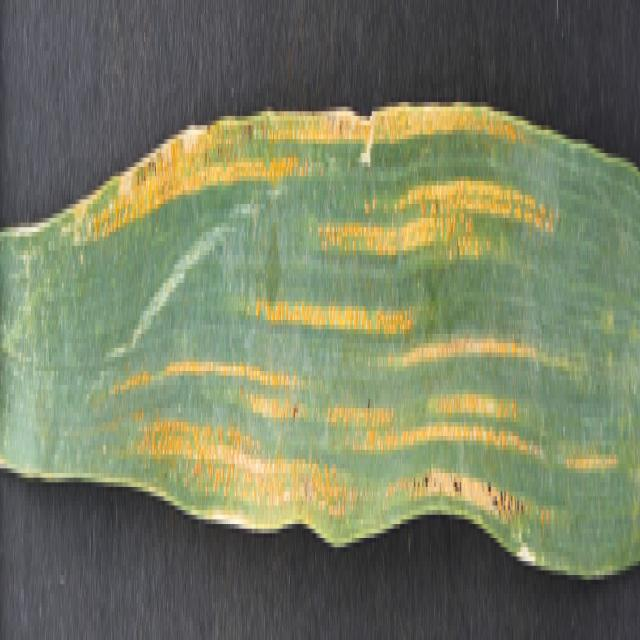leaf rust: (71, 107, 554, 533)
